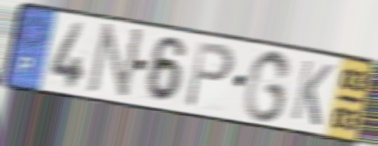4: (47, 19, 88, 92)
6: (141, 35, 192, 106)
G: (241, 48, 294, 125)
K: (288, 57, 336, 129)
N: (84, 22, 147, 103)
P: (182, 39, 237, 111)
